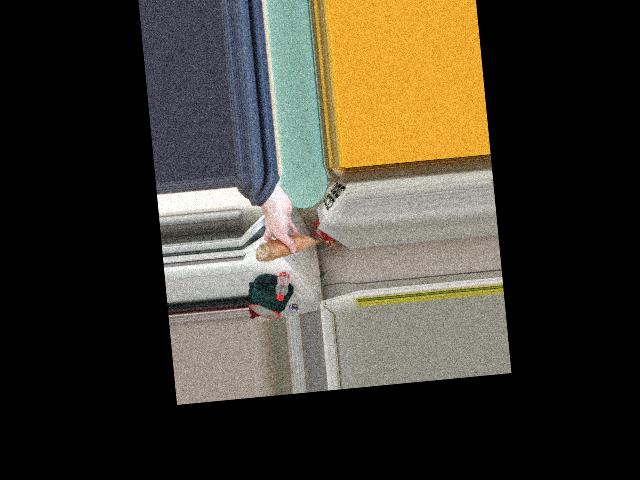sweet_potato: (253, 235, 318, 257)
